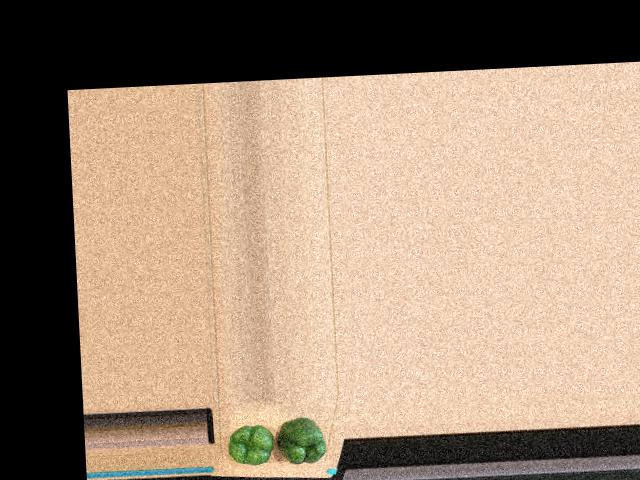bell_pepper: (227, 418, 276, 467)
